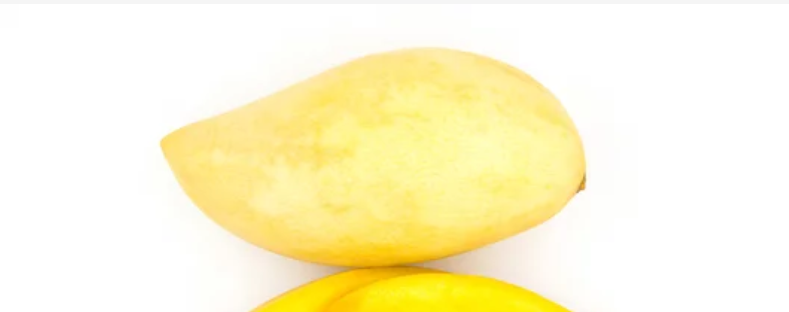mango: (158, 47, 590, 268)
